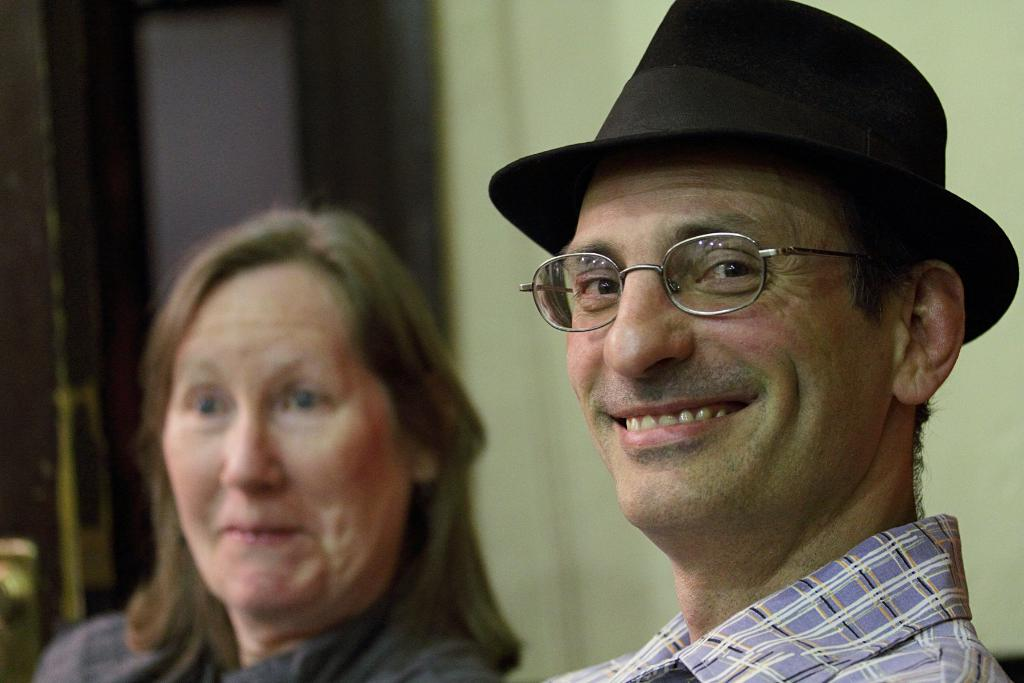Human-face: (565, 152, 890, 532), (168, 267, 409, 608)
